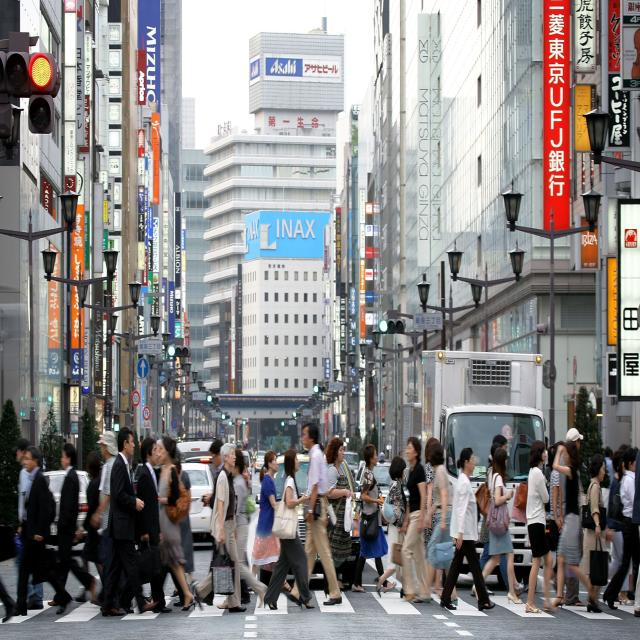body: (281, 422, 343, 607), (99, 424, 158, 618), (11, 446, 69, 616), (438, 446, 497, 612), (193, 440, 248, 612), (262, 447, 317, 612), (46, 442, 98, 611), (548, 438, 598, 609), (150, 436, 197, 612), (471, 448, 523, 607), (221, 445, 270, 610), (478, 441, 526, 598), (350, 442, 397, 594), (552, 424, 587, 608), (248, 450, 292, 596), (524, 438, 560, 616), (602, 445, 640, 612), (423, 436, 459, 606), (402, 434, 434, 606), (72, 450, 105, 604), (373, 455, 407, 599), (16, 437, 44, 611), (154, 434, 182, 607), (605, 449, 635, 607), (326, 436, 354, 591), (168, 446, 196, 600), (92, 430, 119, 587), (582, 454, 607, 613), (422, 437, 444, 598), (546, 440, 566, 588), (596, 442, 640, 484), (200, 439, 226, 507), (632, 445, 640, 600), (42, 470, 58, 544), (486, 433, 508, 472), (0, 572, 16, 624), (153, 438, 166, 485), (542, 441, 550, 486)
